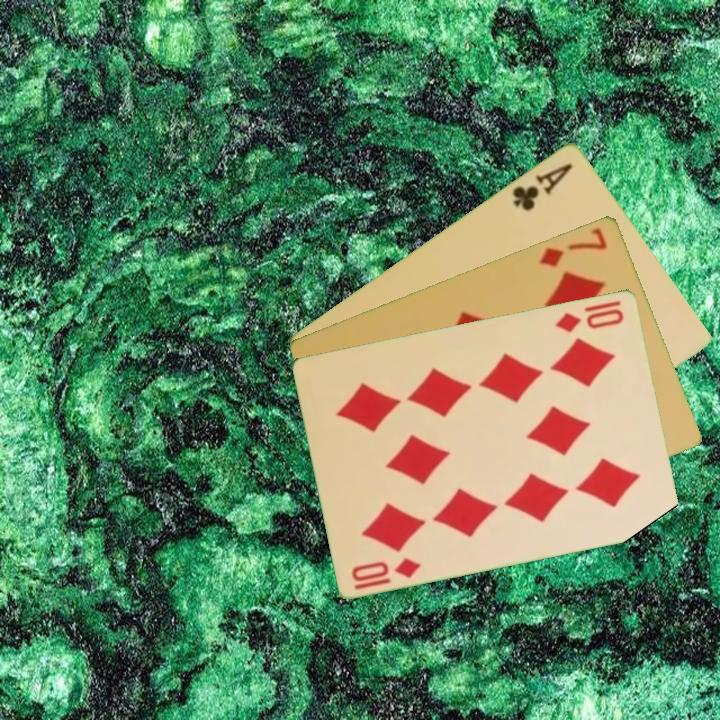10d: (552, 296, 627, 335), (348, 554, 424, 592)
7d: (536, 223, 611, 270)
Ac: (509, 159, 576, 214)
